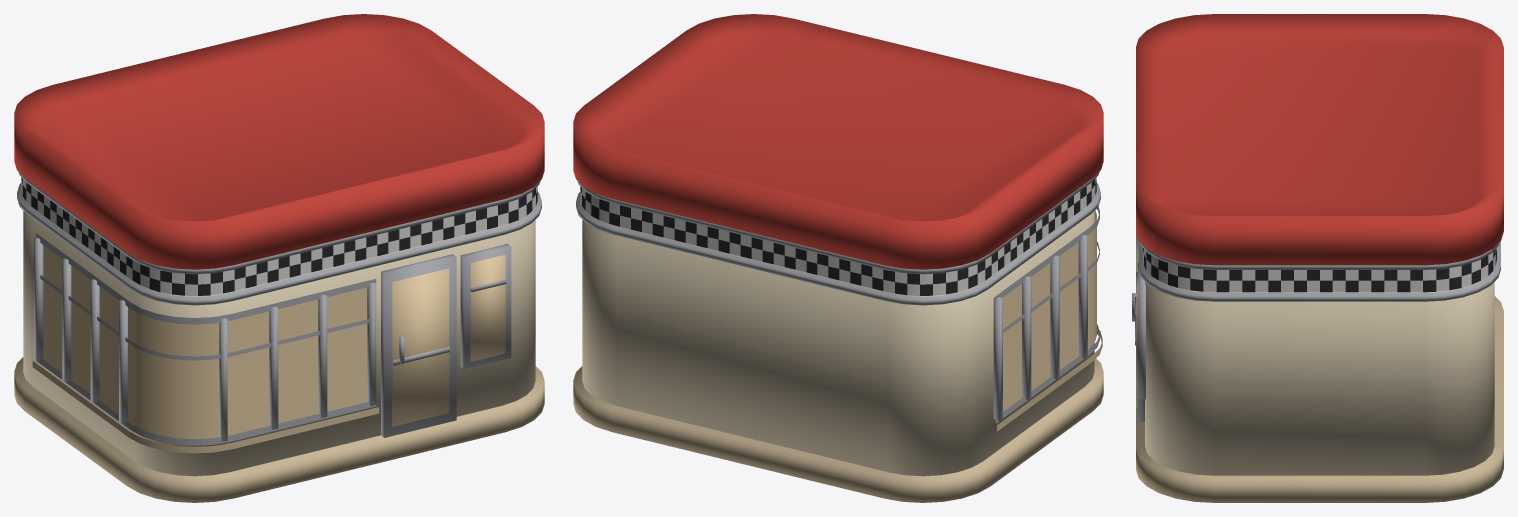
Rendered from burger.glb.
3 views of the same model, side by side, from view 1: azimuth 30°, elevation 25°; view 2: azimuth 150°, elevation 25°; view 3: azimuth 270°, elevation 25° (orthographic).
Parts seen in each view (by area): view 1: burger; view 2: burger; view 3: burger.
Part boxes in pixels (x1,y1,x2,y2): burger: (14,14,544,502); burger: (573,14,1103,502); burger: (1132,14,1503,502).
Bounding box in the file's own units: 2.6 × 1.72 × 2.02.
